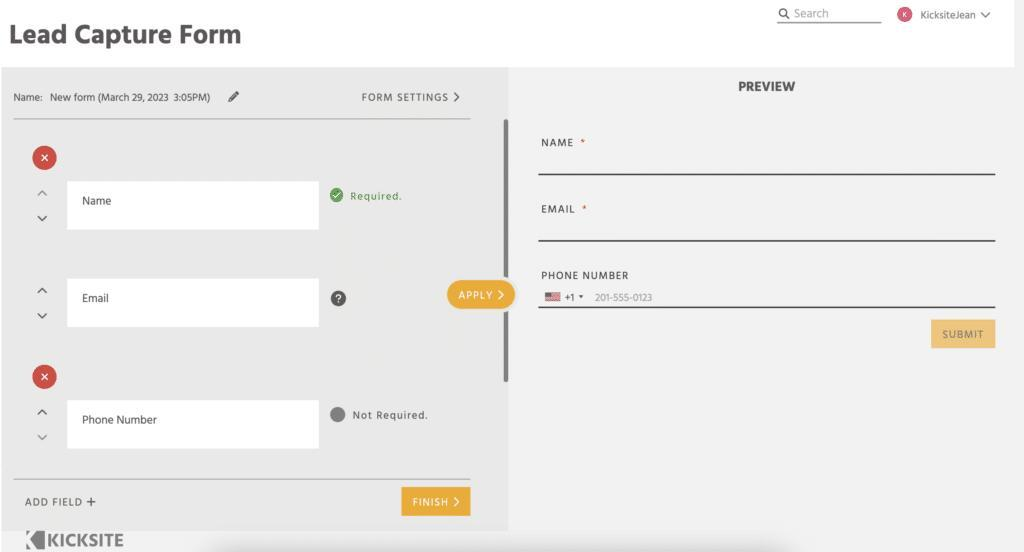button: (402, 486, 474, 518), (448, 280, 517, 313), (932, 320, 997, 349)
icon: (33, 365, 58, 391), (33, 147, 59, 172), (223, 87, 245, 108), (328, 185, 346, 206), (331, 288, 349, 309), (330, 408, 348, 424), (979, 9, 995, 23), (779, 6, 791, 22), (452, 90, 464, 106)
input: (66, 180, 319, 233), (67, 277, 319, 330), (73, 399, 320, 453)
label: (9, 23, 252, 49), (730, 73, 800, 101), (543, 269, 635, 288), (361, 90, 450, 107), (541, 203, 591, 218), (538, 138, 589, 149)
